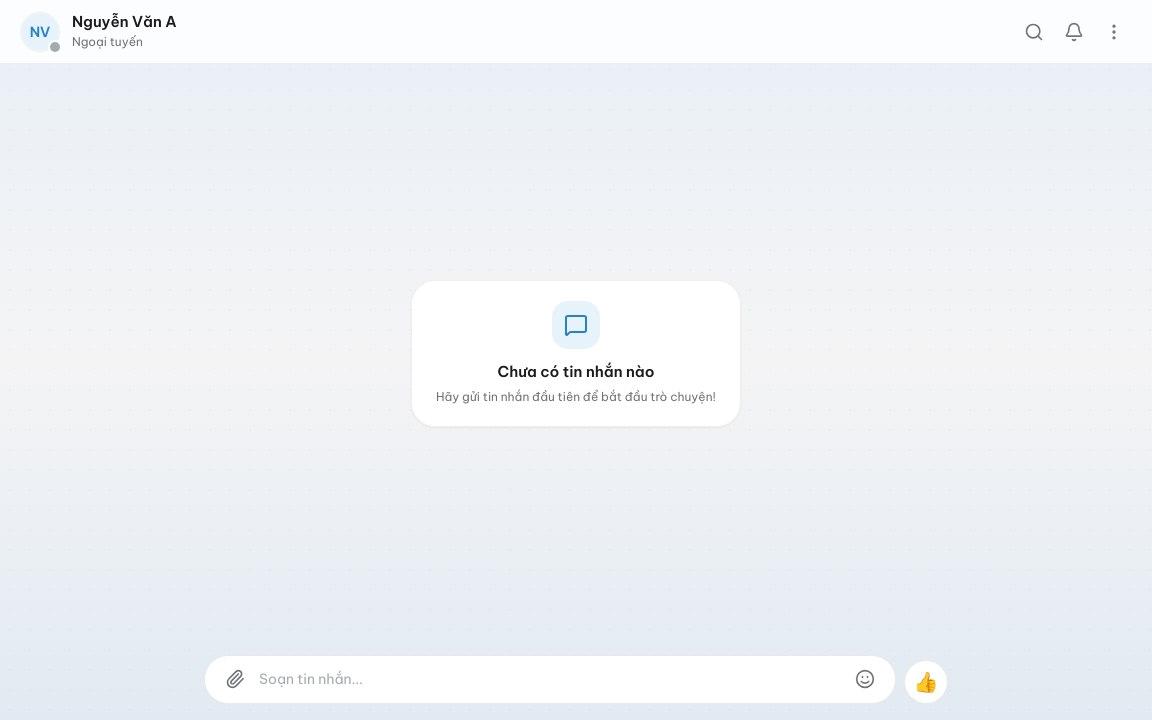
Test: ActiveChatCanvas - block lock, menu actions, realtime join › FR-48 header menu › pins the conversation (API + store) and then offers "Bỏ ghim"
Click the button named "Tùy chọn hội thoại". click: (1114,32)
box: [1096,14,1132,50]
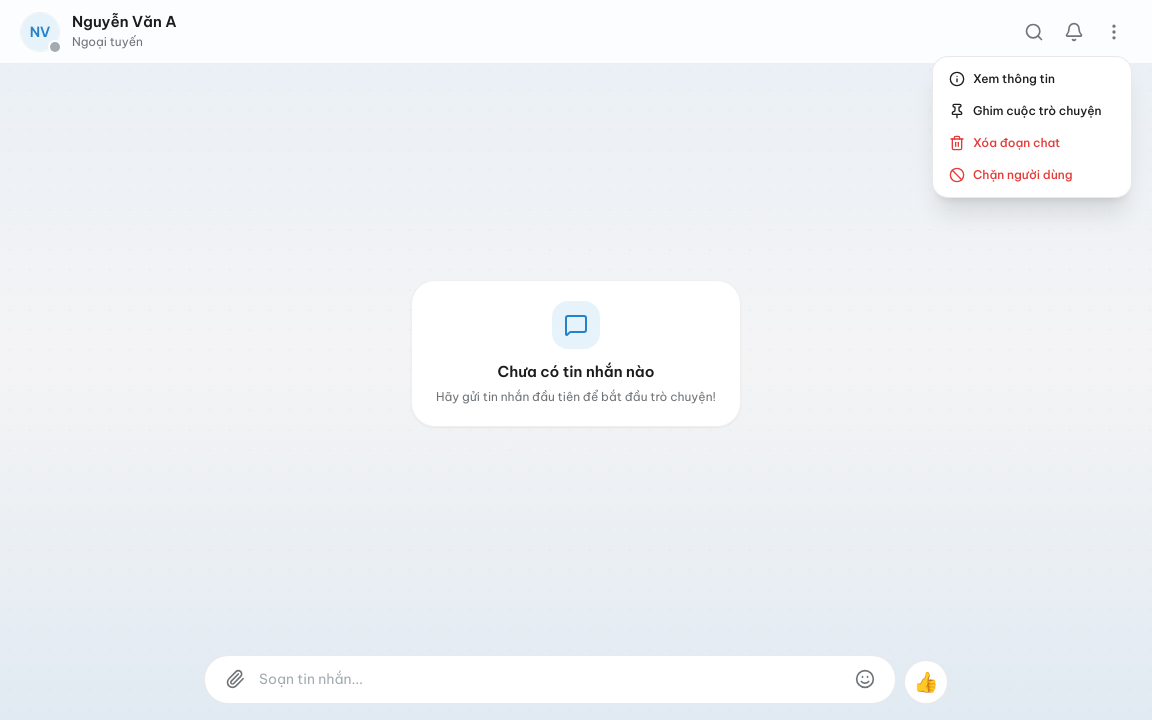
Click the menu item "Ghim cuộc trò chuyện". click: (1025,111)
box: [949,103,1102,119]
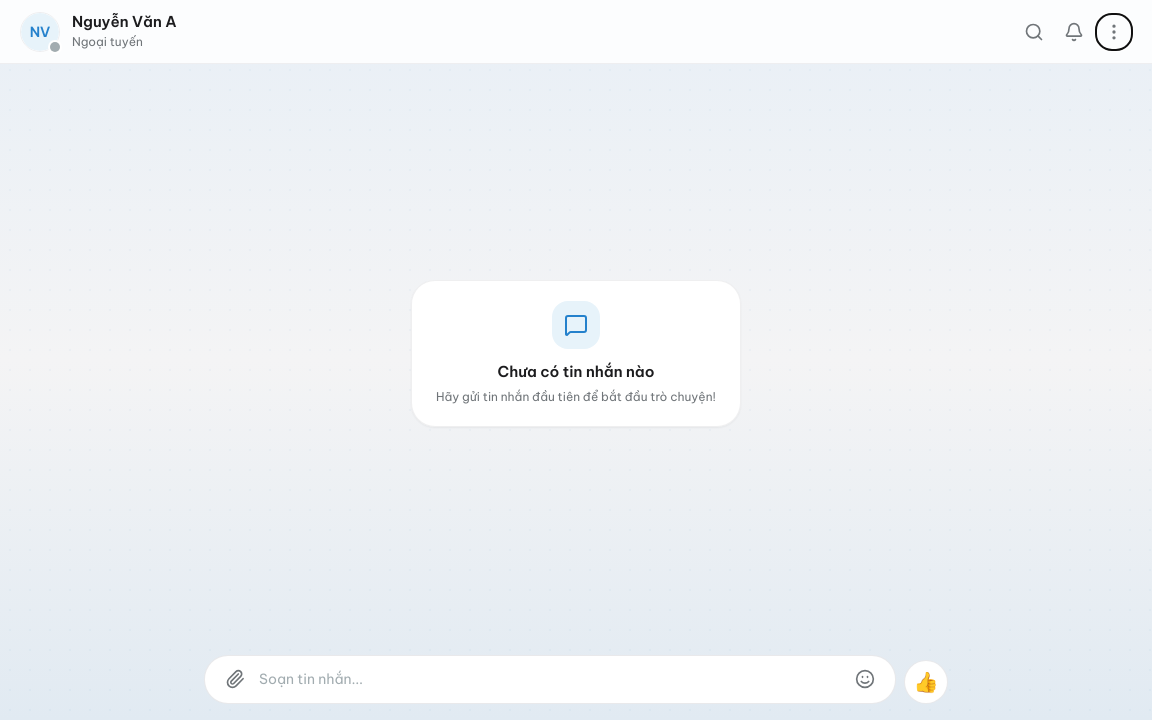
Click the button named "Tùy chọn hội thoại". click: (1114,32)
box: [1096,14,1132,50]
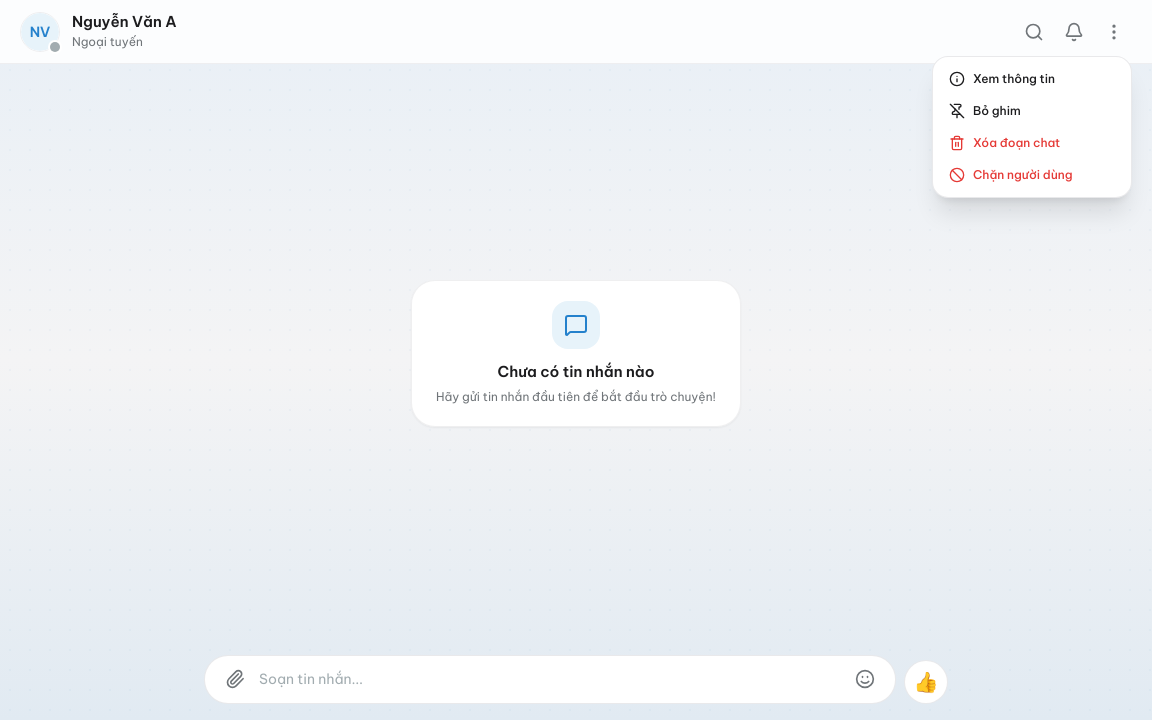
Check: the menu item "Bỏ ghim" is shown, box [949,103,1021,119]
